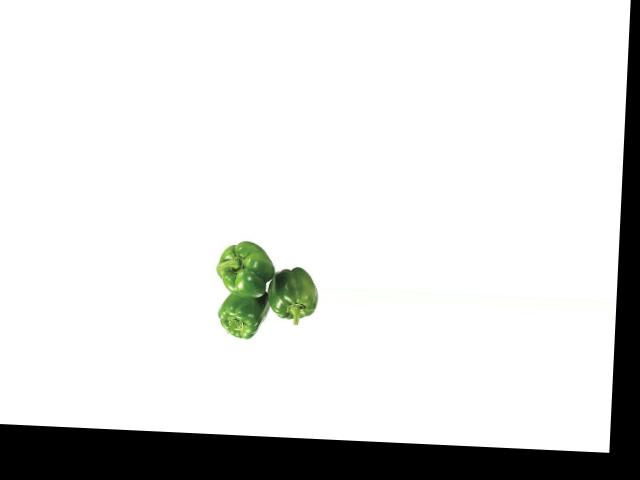bell_pepper: (210, 234, 276, 300)
